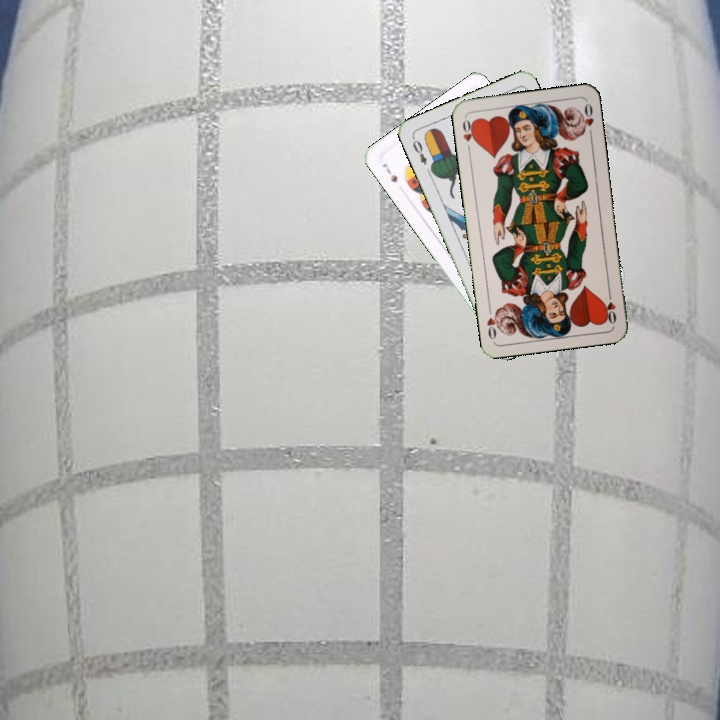EO: (408, 133, 430, 167)
HO: (458, 114, 478, 155), (601, 286, 619, 327)
S7: (378, 159, 400, 185)
